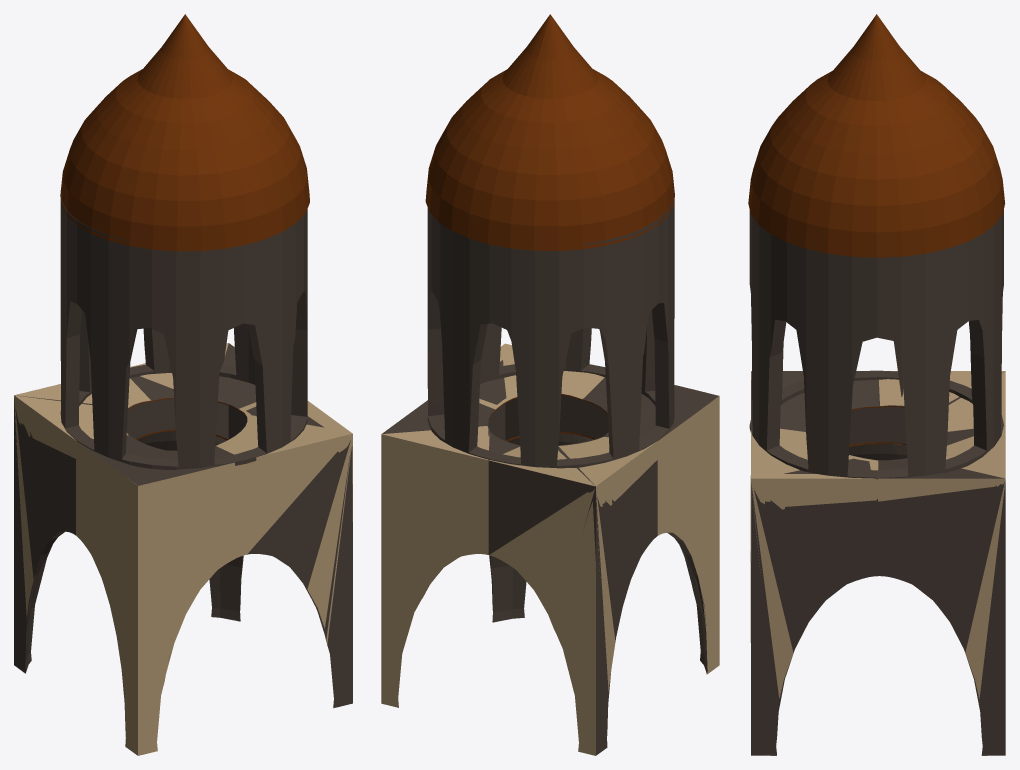
The model's file is CorehyleBellTower.fbx.
3 views of the same model, side by side, from view 1: azimuth 30°, elevation 25°; view 2: azimuth 150°, elevation 25°; view 3: azimuth 270°, elevation 25° (orthographic). The views are drawn at different scales.
Visible parts, largest first — view 1: BellTower; view 2: BellTower; view 3: BellTower.
Boxes of the visible parts, left/top/right/bottom form: BellTower: left=14, top=14, right=352, bottom=755; BellTower: left=381, top=14, right=719, bottom=755; BellTower: left=748, top=14, right=1005, bottom=755.
Bounding box in the file's own units: 3211 × 9471 × 3208.
